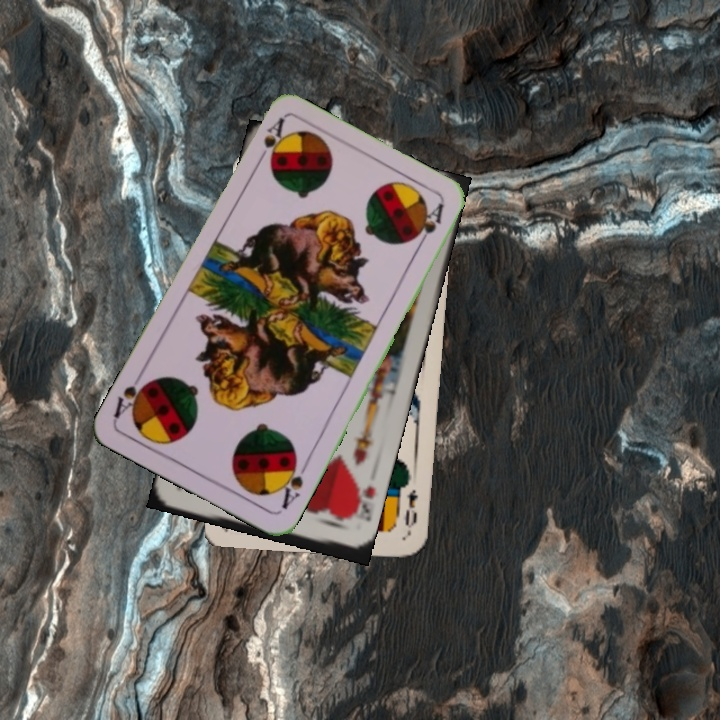EO: (401, 485, 421, 537)
HK: (343, 478, 379, 524)
SA: (274, 453, 312, 512), (251, 114, 287, 169)
